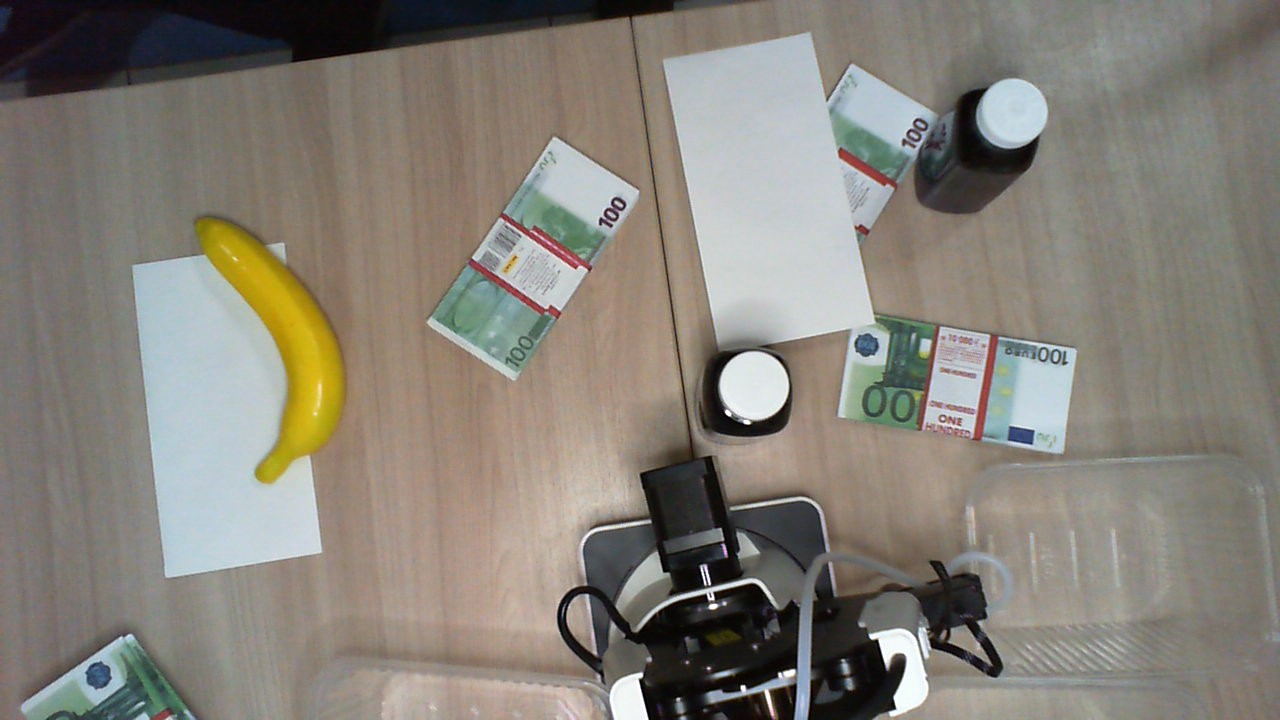banana: (192, 215, 348, 484)
bottle: (950, 74, 1056, 175), (694, 346, 793, 435)
convert: (662, 31, 878, 351), (128, 238, 324, 585)
money: (427, 136, 644, 377), (838, 311, 1078, 456), (796, 60, 939, 248), (14, 628, 206, 720)
